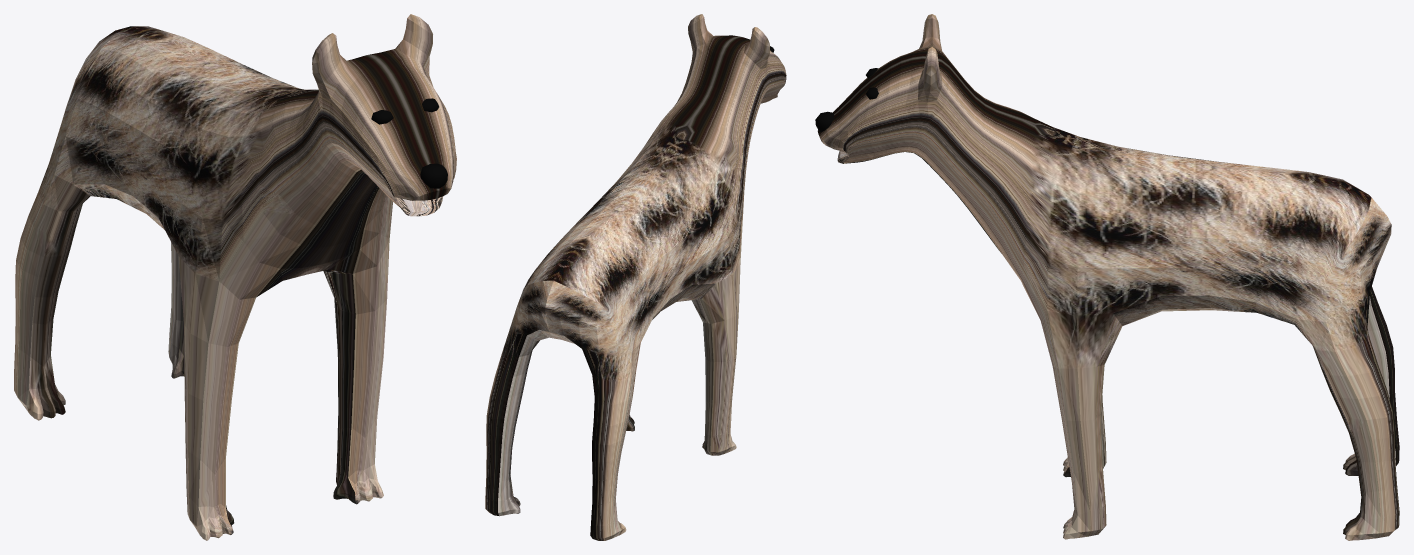
The model's file is hyena5.fbx.
The picture shows the model from 3 angles, left to right: view 1: azimuth 30°, elevation 25°; view 2: azimuth 150°, elevation 25°; view 3: azimuth 270°, elevation 25°; orthographic projection. The views are drawn at different scales.
Parts seen in each view (by area): view 1: Cube; view 2: Cube; view 3: Cube.
Part boxes in pixels (x1=…): Cube: x1=14, y1=14, x2=456, y2=540; Cube: x1=485, y1=14, x2=786, y2=540; Cube: x1=815, y1=14, x2=1399, y2=540.
Bounding box in the file's own units: 49.54 × 136 × 152.
